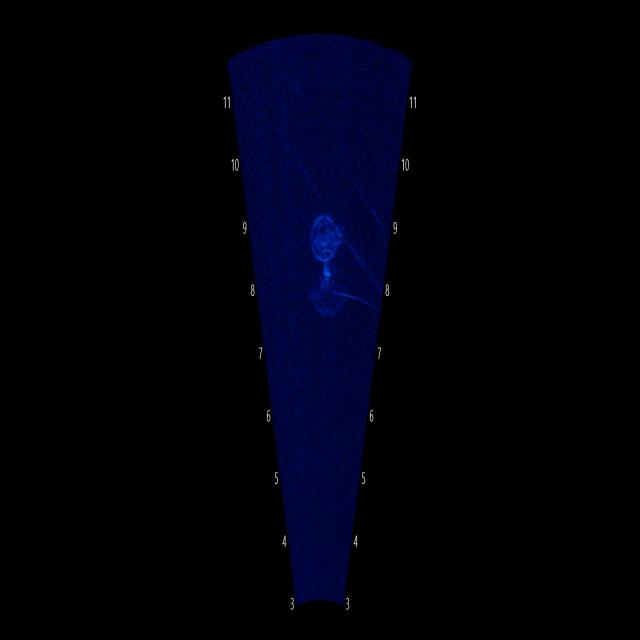circle: (306, 194, 347, 276)
